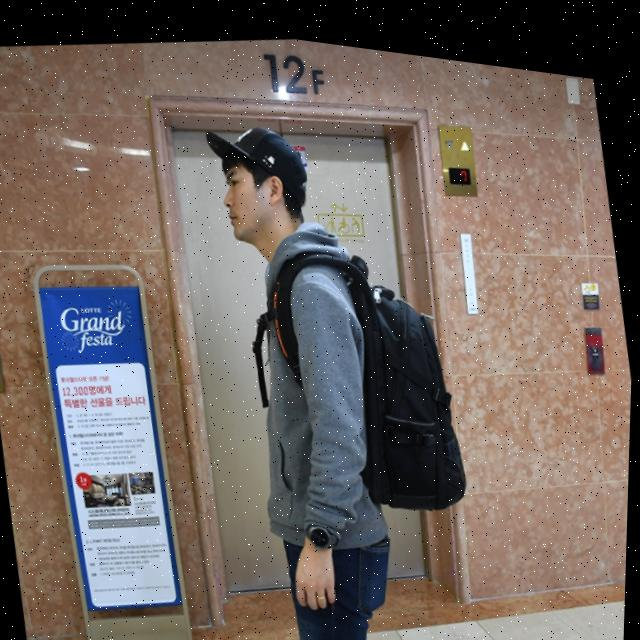backpack: (309, 224, 504, 524)
